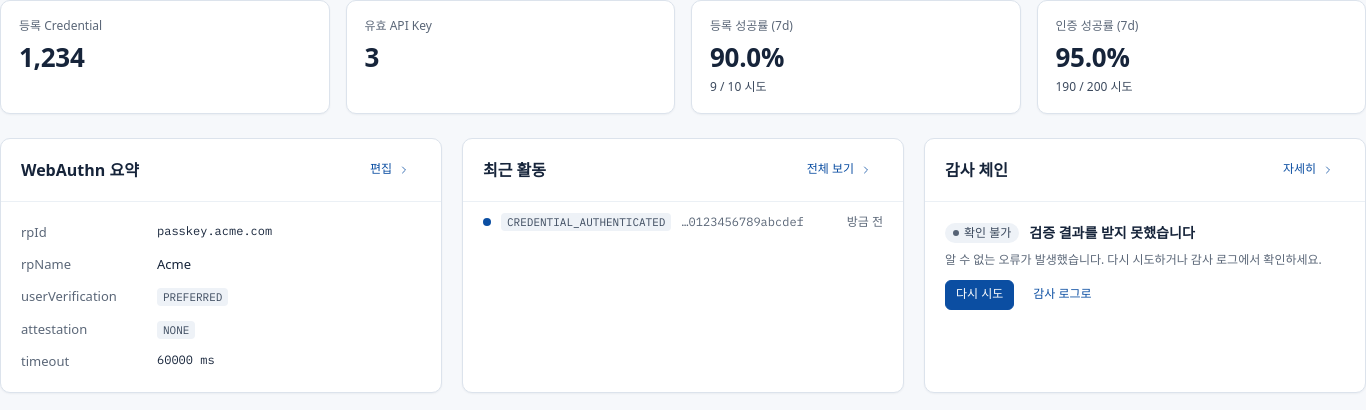
it: TenantOverview › 체인 검증 실패: "확인 중"에 멈추지 않고 확인 불가 + 다시 시도
Expected: the text "검증 결과를 받지 못했습니다" is shown, [1029,222,1195,244]
Expected: the text "확인 불가" is shown, [945,223,1019,243]
Click the button "다시 시도": x=980, y=295 [945,280,1014,310]
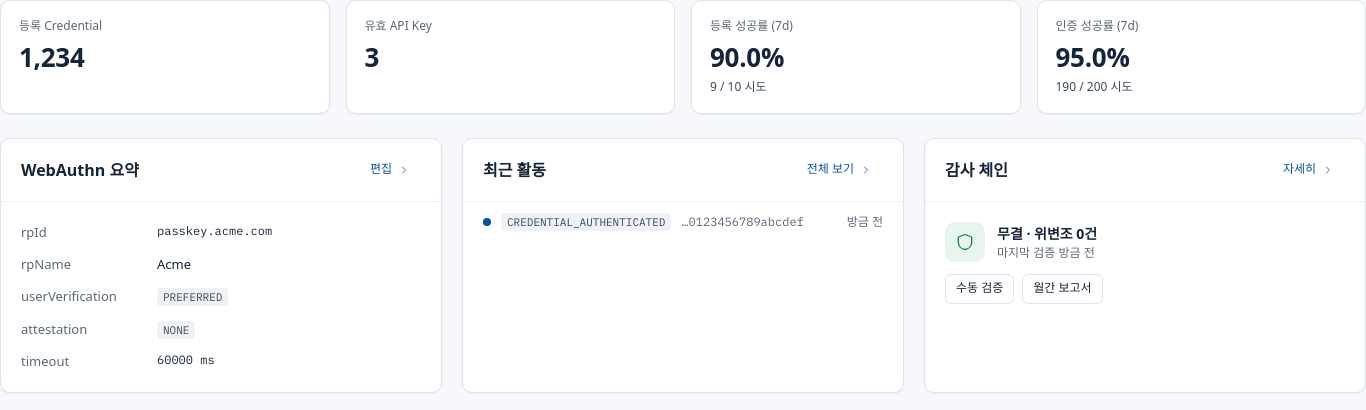
Expected: the text "무결 · 위변조 0건" is shown, [997,223,1097,245]
